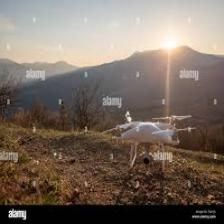drone: (106, 109, 192, 173)
